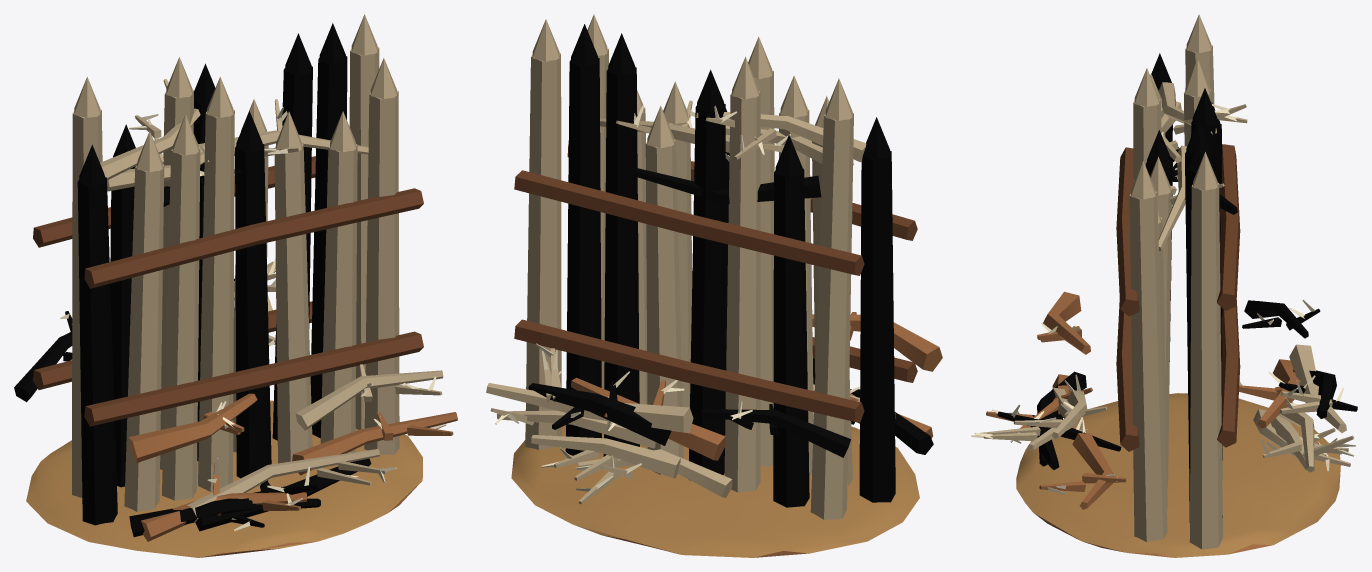
The model's file is ThornBoma.fbx.
3 renders of one model, left to right at view 1: azimuth 30°, elevation 25°; view 2: azimuth 150°, elevation 25°; view 3: azimuth 270°, elevation 25°, orthographic. The views are drawn at different scales.
Parts seen in each view (by area): view 1: ThornBoma; view 2: ThornBoma; view 3: ThornBoma.
Boxes of the visible parts, x1,y1,x2,y2 form: ThornBoma: (14,14,457,557); ThornBoma: (486,14,942,557); ThornBoma: (971,14,1357,557).
Size of the model in its own units: 1.71 by 1.93 by 1.68.
Materials: 1 (1 with a texture image).
